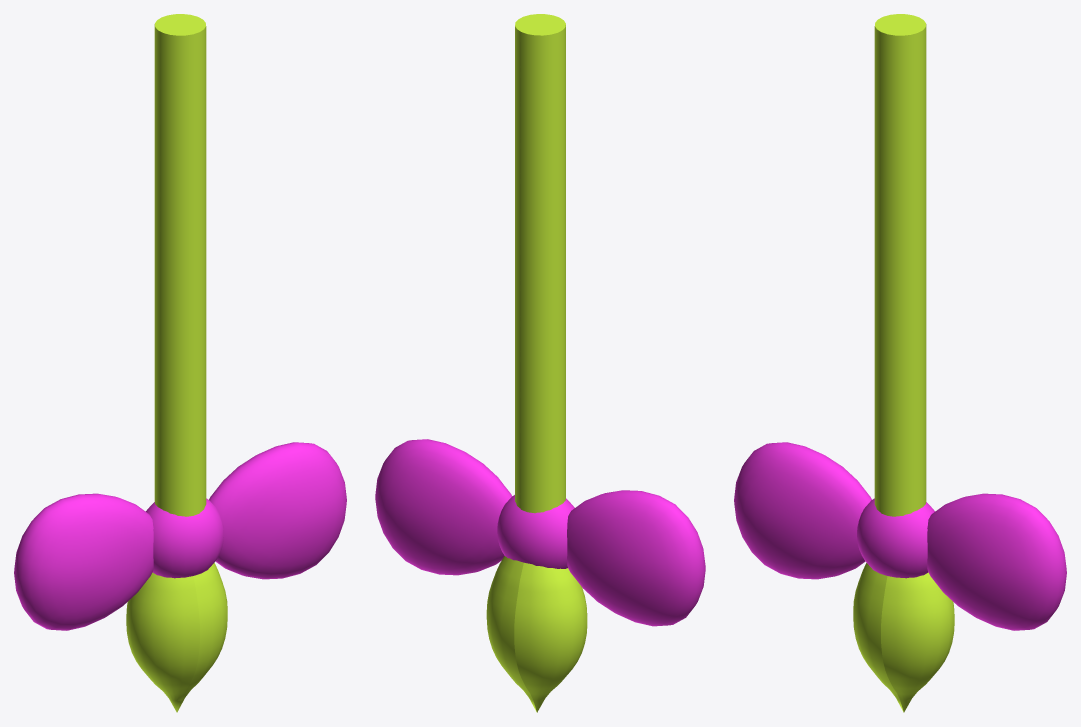
Rendered from treetrunkscola.obj.
The picture shows the model from 3 angles, left to right: view 1: azimuth 30°, elevation 25°; view 2: azimuth 150°, elevation 25°; view 3: azimuth 330°, elevation 25°; orthographic projection.
Visible parts, largest first — view 1: TtCola; view 2: TtCola; view 3: TtCola.
Part boxes in pixels (box(x1,y1,x2,y2)): TtCola: box(14, 14, 346, 712); TtCola: box(375, 14, 705, 712); TtCola: box(734, 14, 1066, 712).
Bounding box in the file's own units: 0.5063 × 1.02 × 0.1234.
